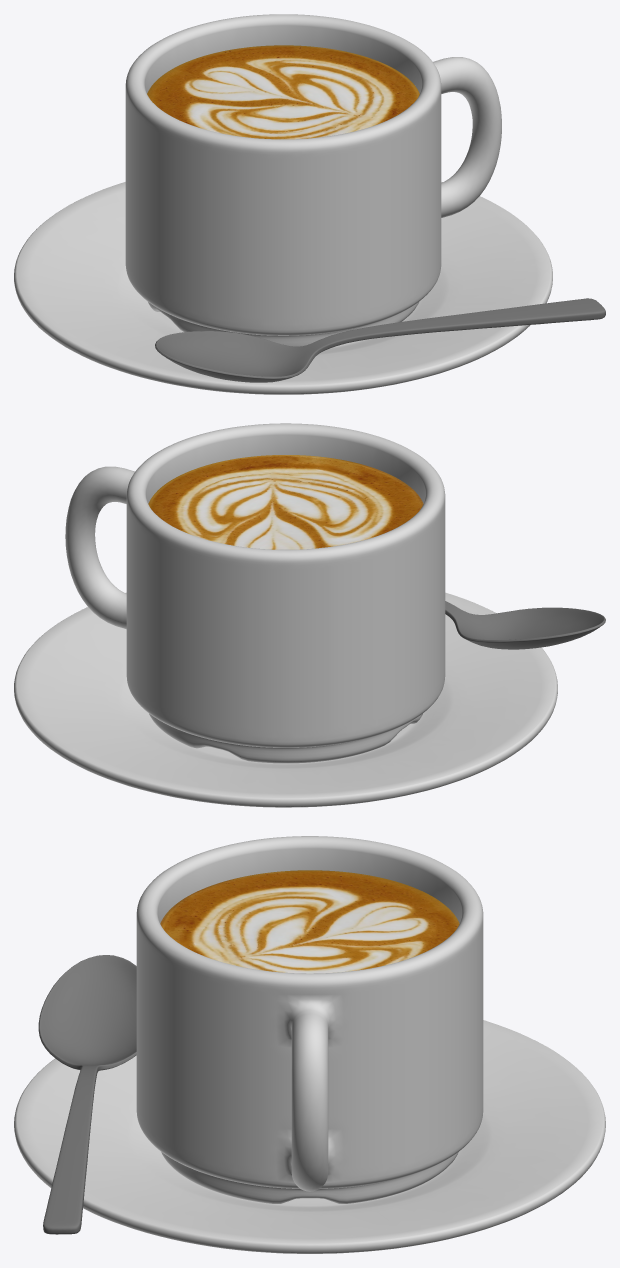
File: coffee.glb
The picture shows the model from 3 angles, top to bottom: view 1: azimuth 30°, elevation 25°; view 2: azimuth 150°, elevation 25°; view 3: azimuth 270°, elevation 25°; orthographic projection. The views are drawn at different scales.
Visible parts, largest first — view 1: cup_1, plate, spoon_1; view 2: cup_1, plate, spoon_1; view 3: cup_1, plate, spoon_1.
Part boxes in pixels (left/top/right/bottom): cup_1: left=125, top=14, right=501, bottom=346; plate: left=14, top=182, right=552, bottom=394; spoon_1: left=155, top=298, right=605, bottom=382; cup_1: left=65, top=423, right=445, bottom=763; plate: left=14, top=592, right=557, bottom=807; spoon_1: left=445, top=601, right=605, bottom=649; cup_1: left=136, top=836, right=483, bottom=1203; plate: left=14, top=1020, right=605, bottom=1253; spoon_1: left=38, top=955, right=136, bottom=1234.
Bounding box in the file's own units: 0.6089 × 0.2832 × 0.6089.
Materials: 3 (1 with a texture image).
